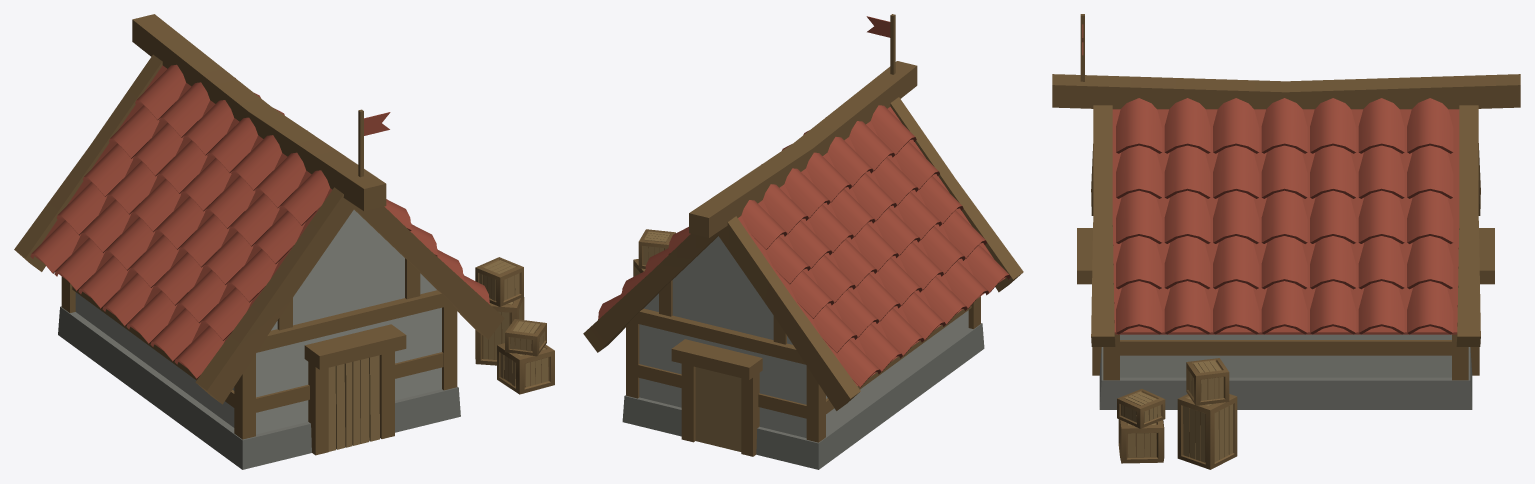
Rendered from cabin.glb.
3 renders of one model, left to right at view 1: azimuth 30°, elevation 25°; view 2: azimuth 150°, elevation 25°; view 3: azimuth 270°, elevation 25°, orthographic. The views are drawn at different scales.
Visible parts, largest first — view 1: Houses_SecondAge_1_Level2; view 2: Houses_SecondAge_1_Level2; view 3: Houses_SecondAge_1_Level2.
Part boxes in pixels (x1,y1,x2,y2): Houses_SecondAge_1_Level2: (14, 14, 554, 469); Houses_SecondAge_1_Level2: (583, 14, 1023, 469); Houses_SecondAge_1_Level2: (1052, 14, 1520, 469).
Size of the model in its own units: 1.11 by 0.9522 by 1.17.
